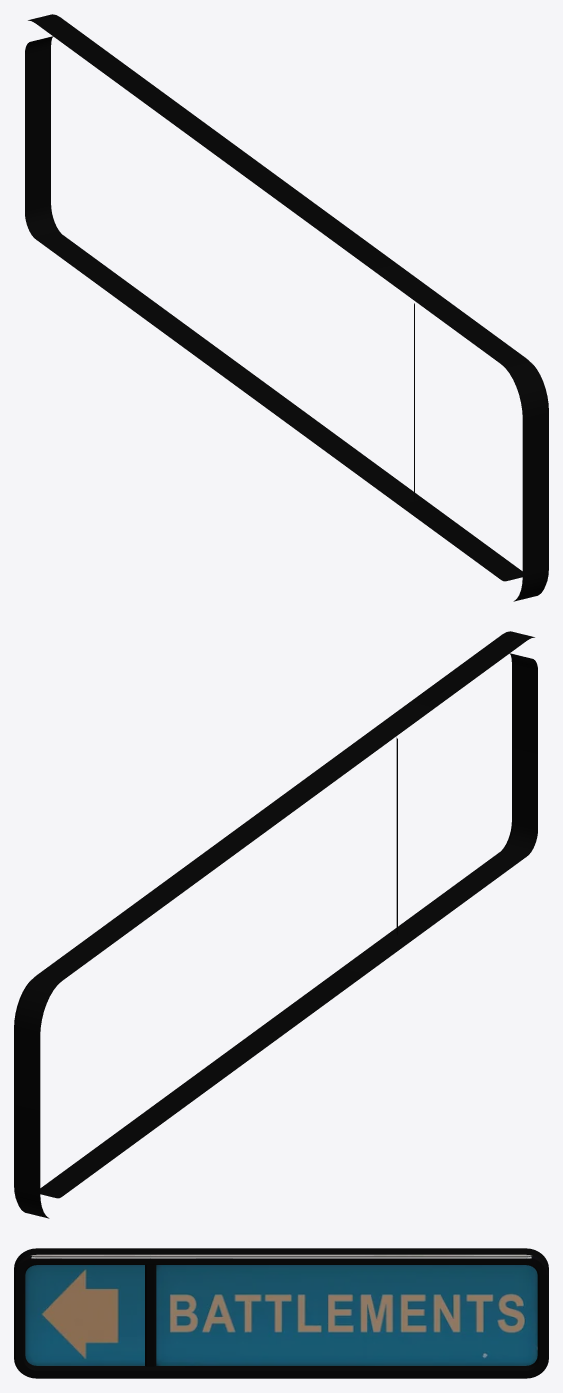
3 renders of one model, top to bottom at view 1: azimuth 30°, elevation 25°; view 2: azimuth 150°, elevation 25°; view 3: azimuth 270°, elevation 25°, orthographic. The views are drawn at different scales.
Visible parts, largest first — view 1: body0_model0_lod0_mesh0; view 2: body0_model0_lod0_mesh0; view 3: body0_model0_lod0_mesh0.
Boxes of the visible parts, box(x1,y1,x2,y2) form: body0_model0_lod0_mesh0: box(25, 14, 548, 601); body0_model0_lod0_mesh0: box(14, 631, 537, 1218); body0_model0_lod0_mesh0: box(14, 1248, 548, 1378).
Size of the model in its own units: 1.5 by 12 by 47.
1 material, 1 textured.
